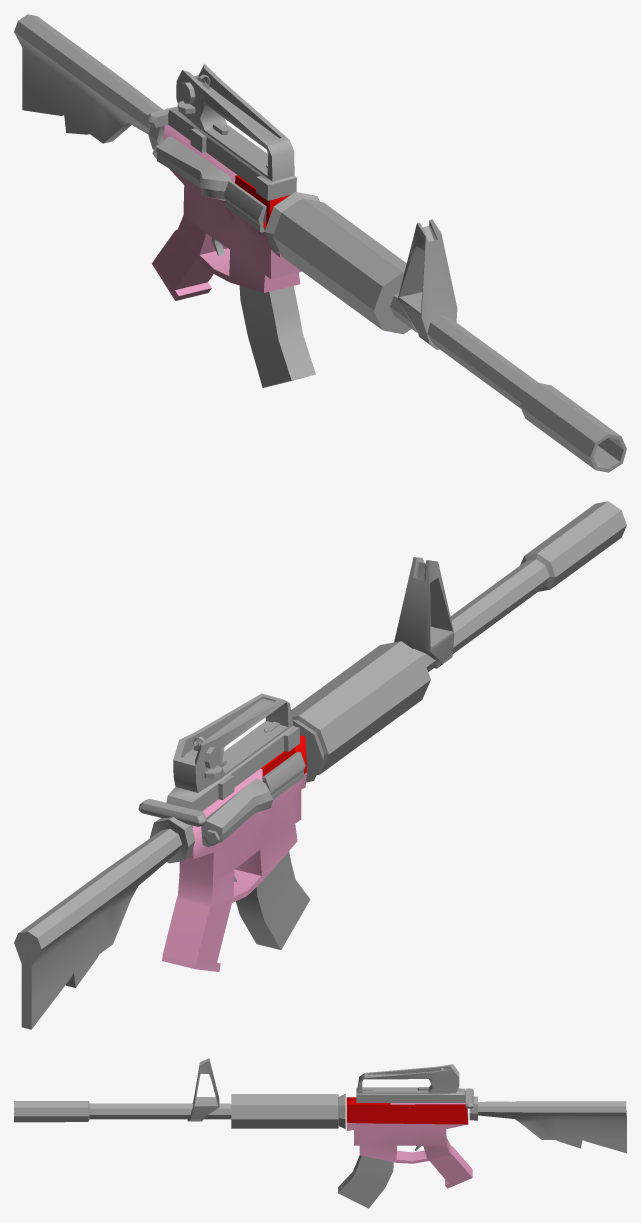
The model's file is RifleBuzz.fbx.
3 renders of one model, top to bottom at view 1: azimuth 30°, elevation 25°; view 2: azimuth 150°, elevation 25°; view 3: azimuth 270°, elevation 25°, orthographic. The views are drawn at different scales.
Parts seen in each view (by area): view 1: Canon, Body, Culata, BodyAim, Mag, Cannon, Aim, Recamara; view 2: Canon, Body, Culata, BodyAim, Cannon, Mag, Aim, Recamara, Trigger; view 3: Canon, Body, Culata, BodyAim, Mag, Cannon.
Boxes of the visible parts, x1,y1,x2,y2 form: Canon: (264,192,626,472); Body: (152,125,301,300); Culata: (14,14,168,149); BodyAim: (168,64,296,200); Mag: (239,285,315,387); Cannon: (397,219,457,349); Aim: (156,137,231,200); Recamara: (223,181,266,232); Canon: (291,501,626,782); Body: (162,735,306,971); Culata: (14,817,195,1029); BodyAim: (166,693,299,811); Cannon: (394,557,454,668); Mag: (236,851,310,949); Aim: (201,778,272,847); Recamara: (262,752,305,799); Trigger: (138,799,206,826); Canon: (14,1094,345,1128); Body: (346,1097,472,1188); Culata: (469,1096,626,1153); BodyAim: (356,1064,466,1102); Mag: (338,1155,393,1208); Cannon: (187,1058,219,1121).
Bounding box in the file's own units: 3.19 × 11.65 × 44.58.
